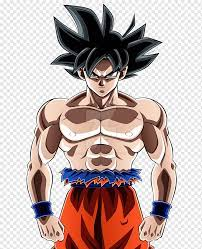Songoku: (51, 4, 162, 101)
